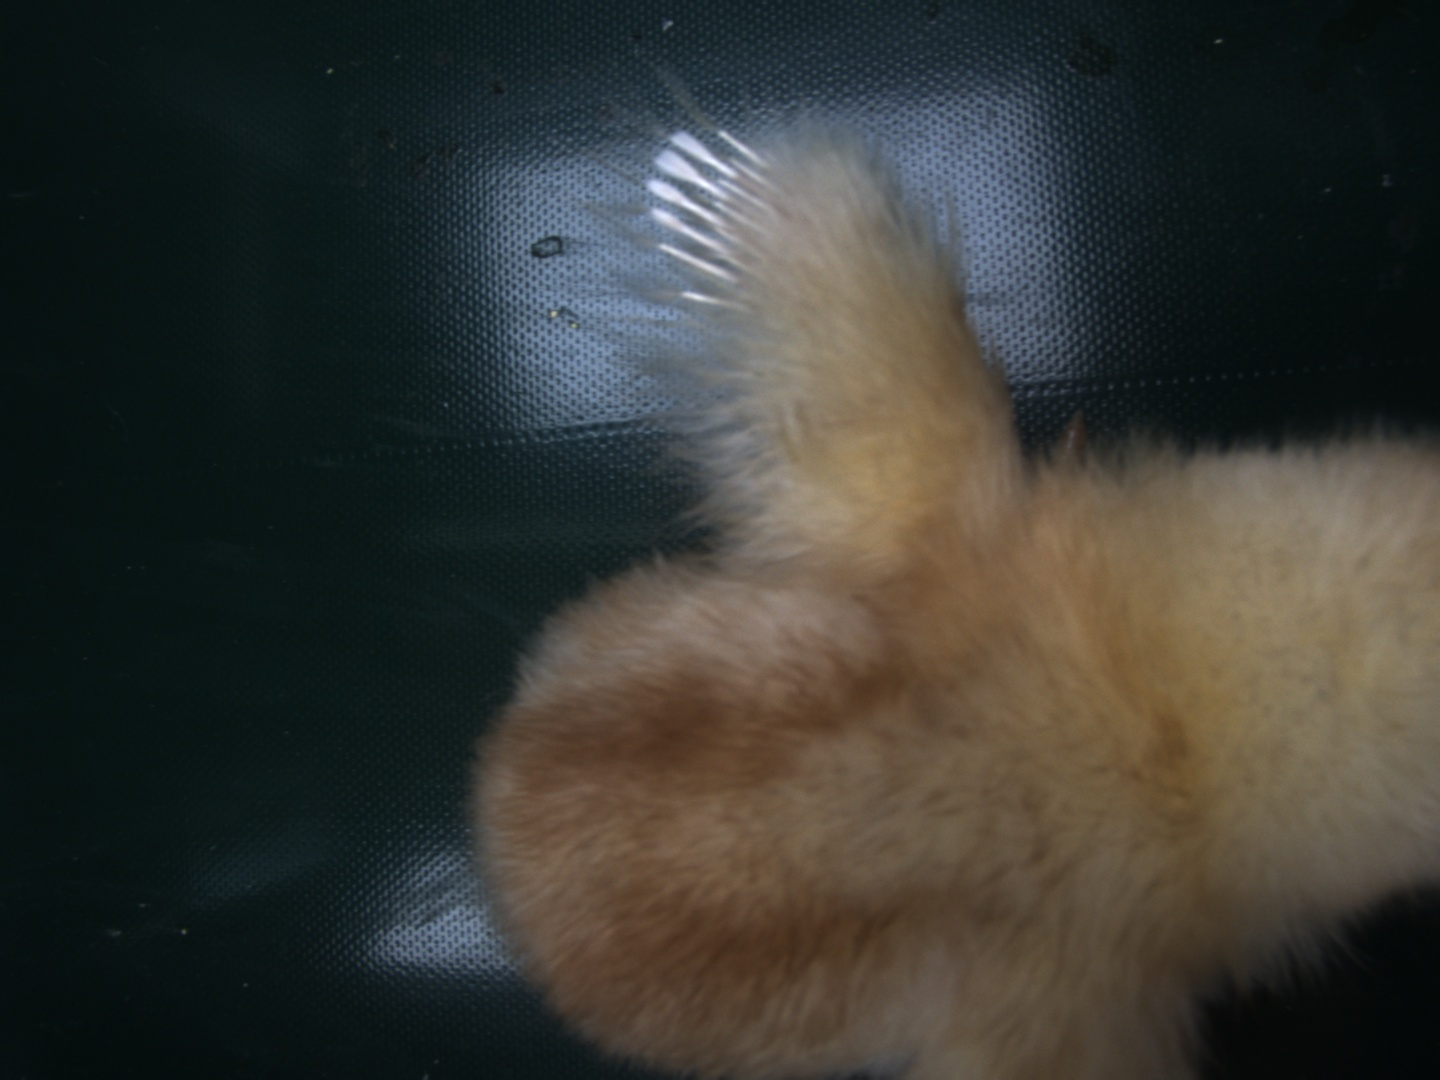female: (644, 124, 799, 317)
